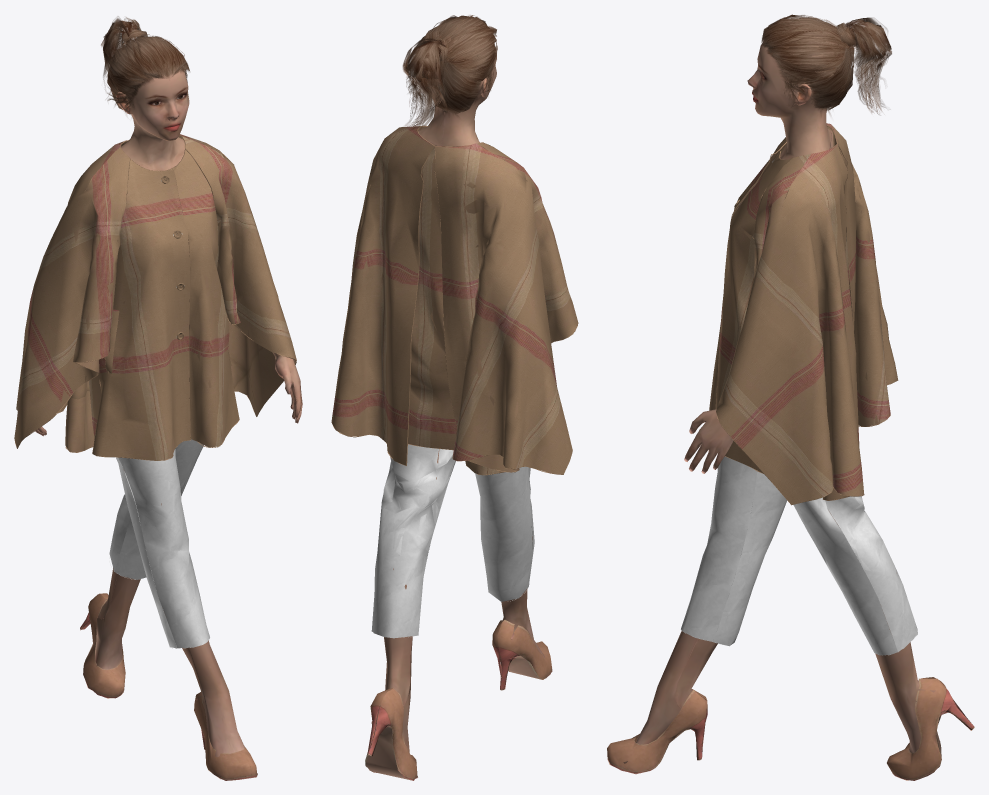
File: cape-coat.glb
3 renders of one model, left to right at view 1: azimuth 30°, elevation 25°; view 2: azimuth 150°, elevation 25°; view 3: azimuth 270°, elevation 25°, orthographic. The views are drawn at different scales.
Visible parts, largest first — view 1: Object_0, Object_31, Object_1, Object_69, Object_66, Object_79, Object_77, Object_68; view 2: Object_0, Object_31, Object_79, Object_77, Object_69, Object_1, Object_66; view 3: Object_0, Object_31, Object_79, Object_77, Object_69, Object_66, Object_68, Object_1.
Boxes of the visible parts, box(x1,y1,x2,y2) form: Object_0: box(14, 134, 296, 460); Object_31: box(109, 439, 209, 648); Object_1: box(14, 135, 296, 460); Object_69: box(95, 469, 244, 757); Object_66: box(116, 69, 189, 171); Object_79: box(101, 16, 189, 114); Object_77: box(80, 593, 257, 780); Object_68: box(35, 138, 302, 435); Object_0: box(331, 125, 578, 475); Object_31: box(371, 444, 534, 638); Object_79: box(402, 15, 497, 130); Object_77: box(365, 620, 552, 780); Object_69: box(377, 449, 544, 768); Object_1: box(333, 126, 577, 475); Object_66: box(418, 37, 496, 146); Object_0: box(709, 123, 897, 504); Object_31: box(681, 456, 917, 655); Object_79: box(761, 14, 891, 114); Object_77: box(607, 677, 974, 780); Object_69: box(623, 510, 935, 763); Object_66: box(747, 41, 843, 159); Object_68: box(684, 131, 832, 472); Object_1: box(717, 125, 896, 505).
Bounding box in the file's own units: 0.4139 × 1.2 × 0.5312.
21 materials, 16 textured.
